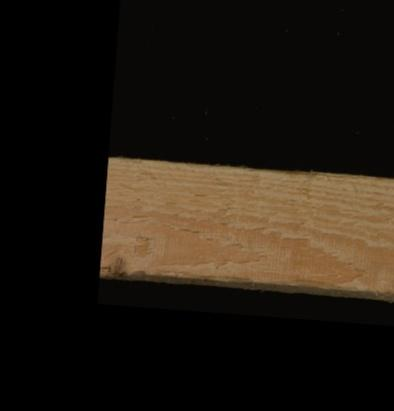edge_knot: (99, 251, 128, 277)
